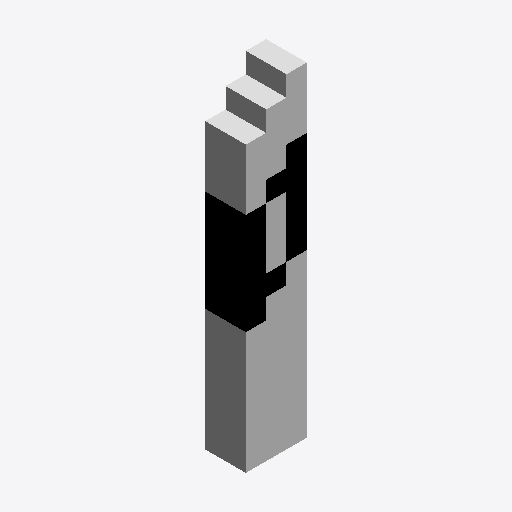
Isometric view (azimuth 45°, elevation 35.3°) of a Minecraft model made of 5 cuboids, textured from the same repository.
Parts seen in each view (by area): element 1, element 2, element 3.
Part boxes in pixels (bbox=[...]): element 1: bbox=[205, 109, 306, 472]; element 2: bbox=[246, 39, 306, 120]; element 3: bbox=[226, 74, 285, 132].
Size of the model in its own units: 3 by 16 by 2.